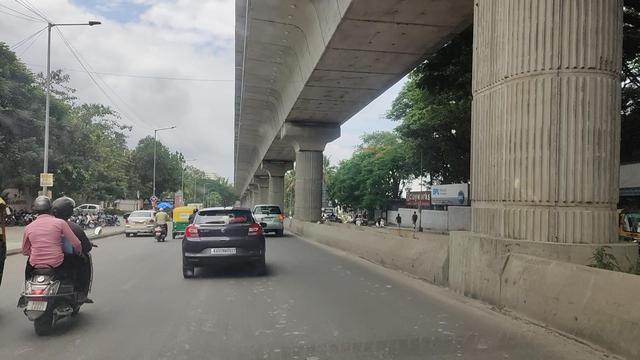LMV: (13, 193, 85, 339), (184, 206, 271, 282), (153, 205, 168, 239)
